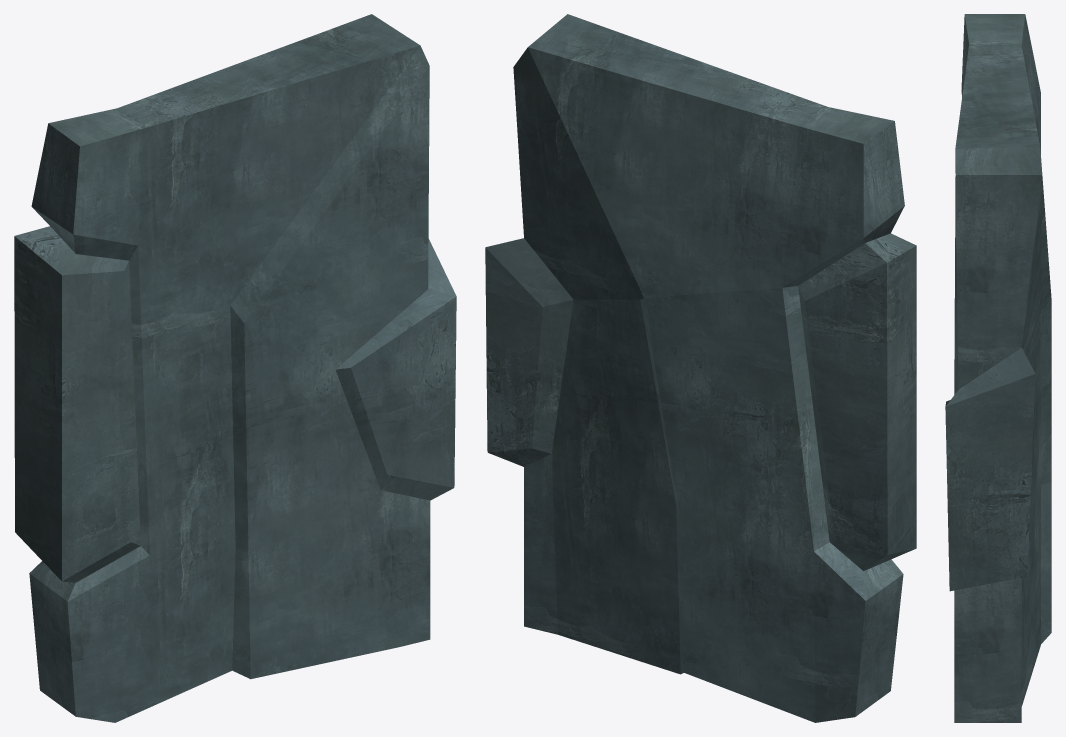
File: RockWall_5.fbx
3 views of the same model, side by side, from view 1: azimuth 30°, elevation 25°; view 2: azimuth 150°, elevation 25°; view 3: azimuth 270°, elevation 25° (orthographic). The views are drawn at different scales.
Visible parts, largest first — view 1: pCube7; view 2: pCube7; view 3: pCube7.
Boxes of the visible parts, left/top/right/bottom form: pCube7: left=14, top=14, right=456, bottom=722; pCube7: left=485, top=14, right=916, bottom=722; pCube7: left=945, top=14, right=1051, bottom=722.
Size of the model in its own units: 10.05 by 14.4 by 2.37.
